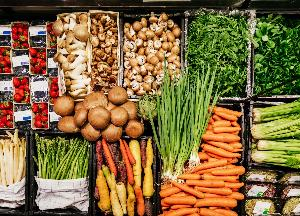carrot: (161, 103, 245, 216)
strawberry: (0, 18, 62, 132)
